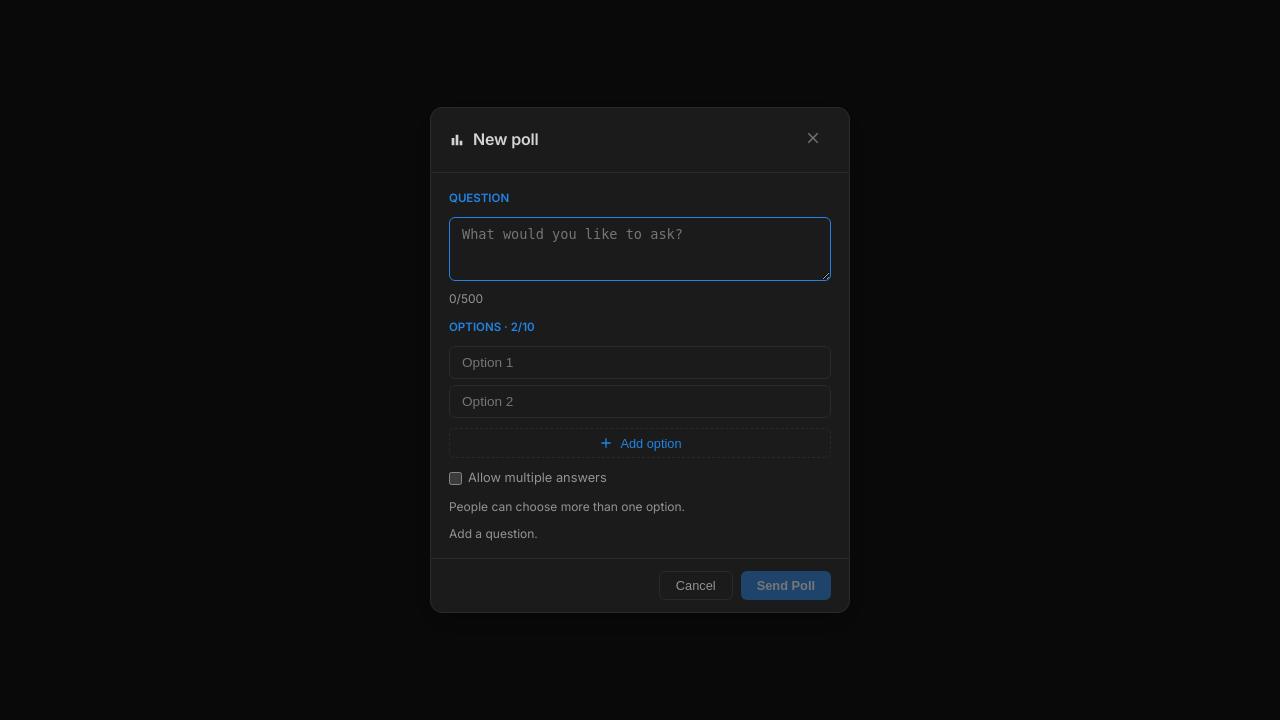
Test case: poll creation integration › failed success flag does not close, and missing conversation rejects rather than pretending success
Type " Lunch? " into the text box labelled "QUESTION" at (640,249), box [449,217,831,281]
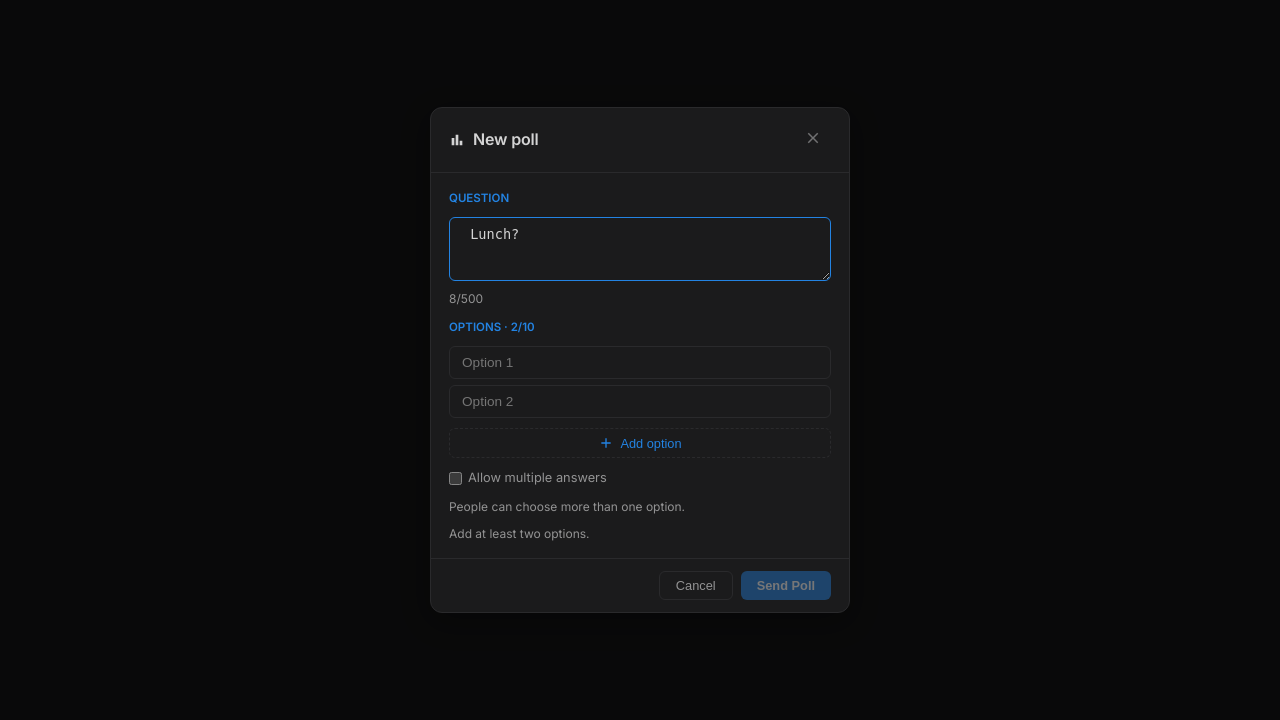
Type " Pizza " into the field labelled "Option 1" at (640,363), box [449,346,831,379]
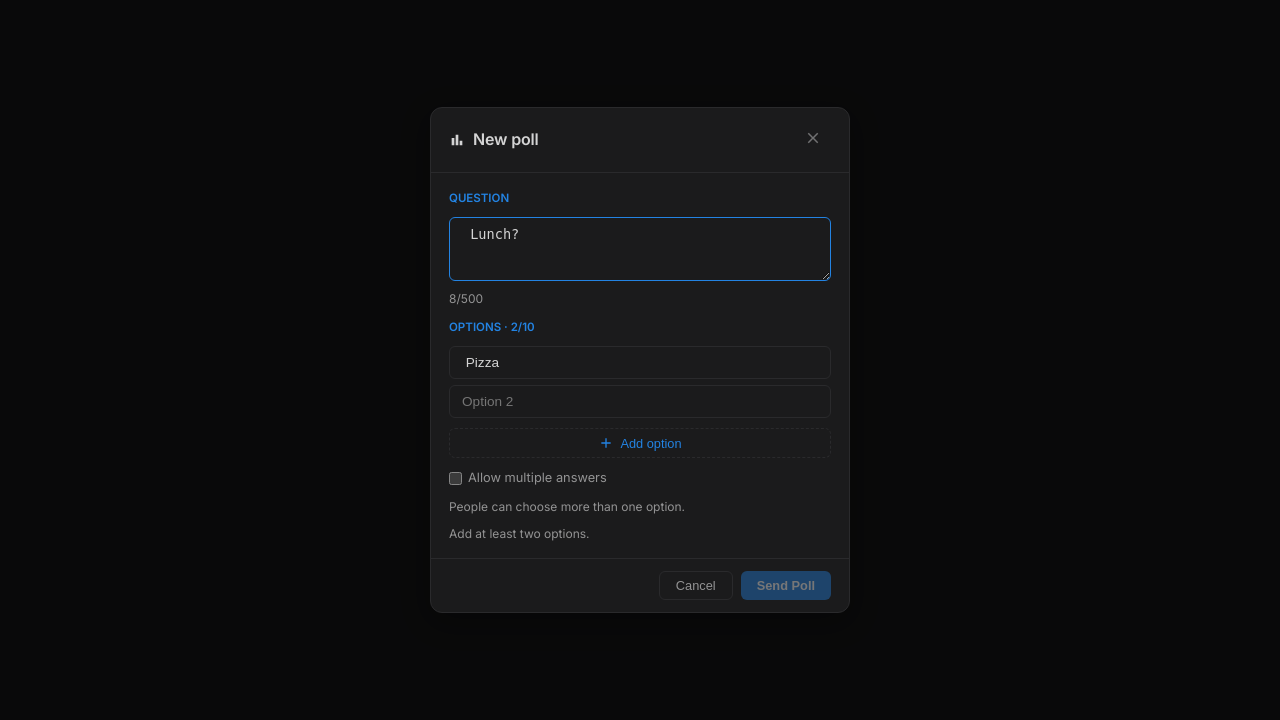
Type " Pasta " into the field labelled "Option 2" at (640,402), box [449,385,831,418]
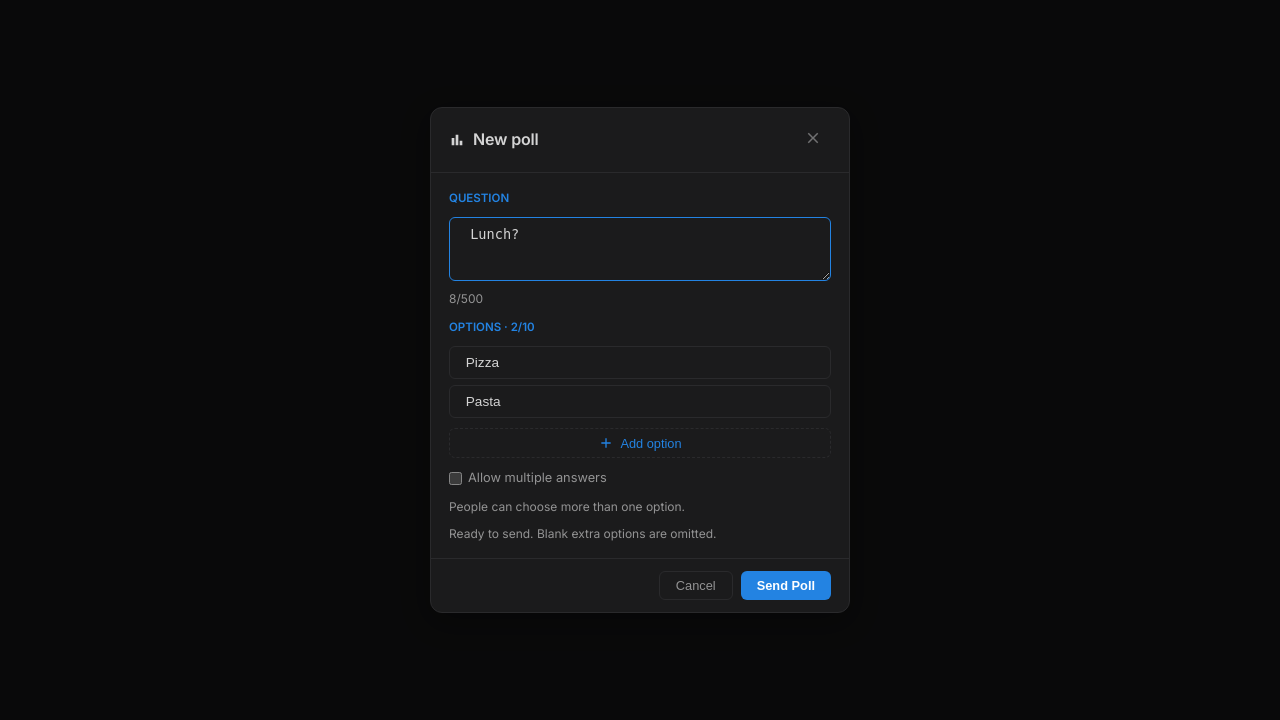
Click the button "Send Poll" at (786,586), box [741,571,831,600]
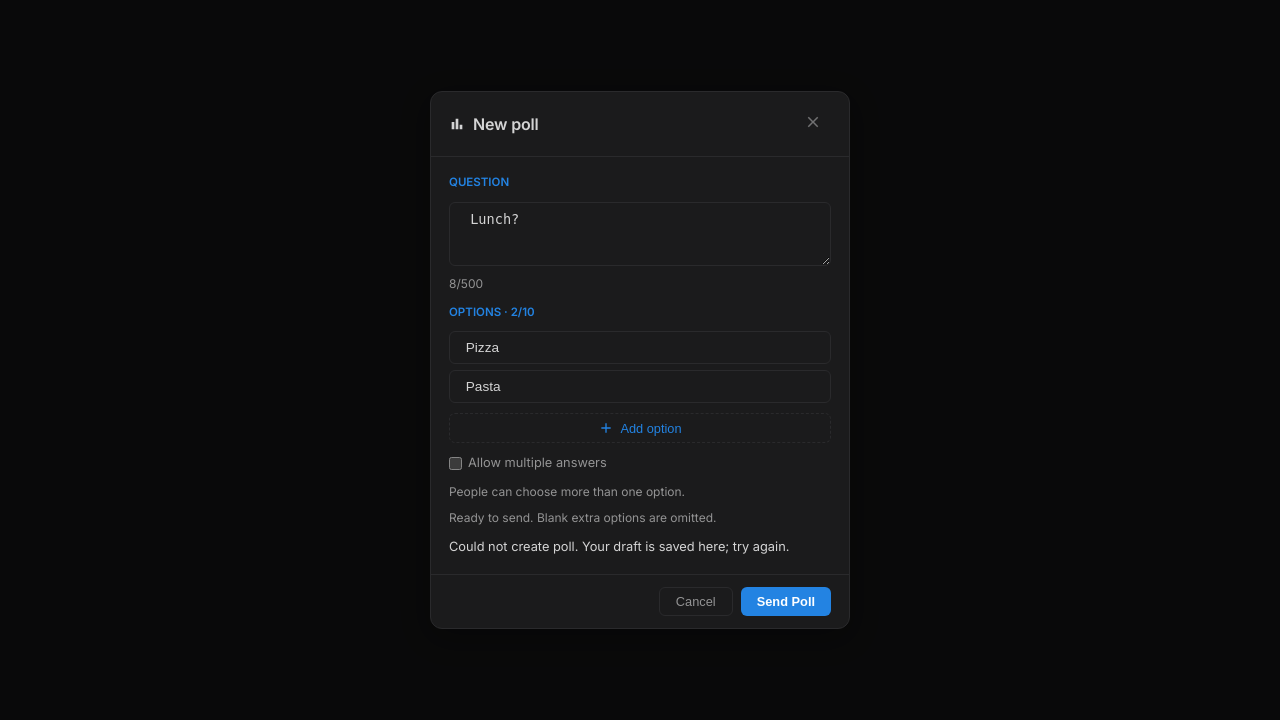
Check: the message shows "Could not create poll", box [449,539,789,554]
